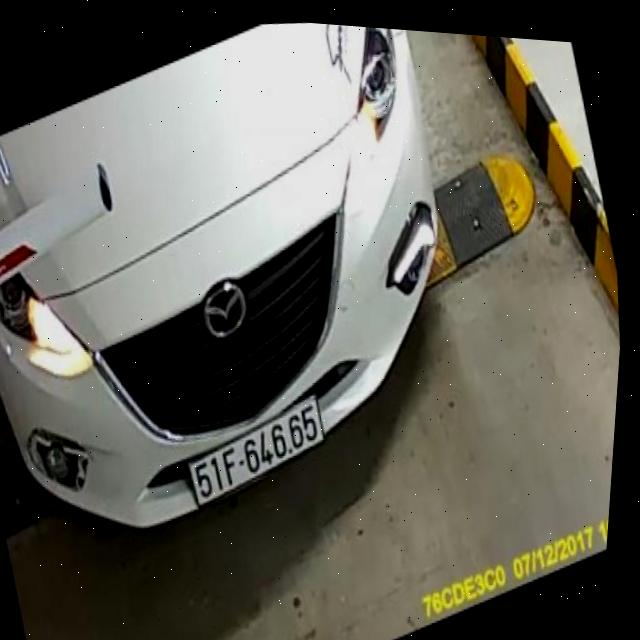car: (0, 0, 492, 575)
plate: (174, 384, 333, 518)
